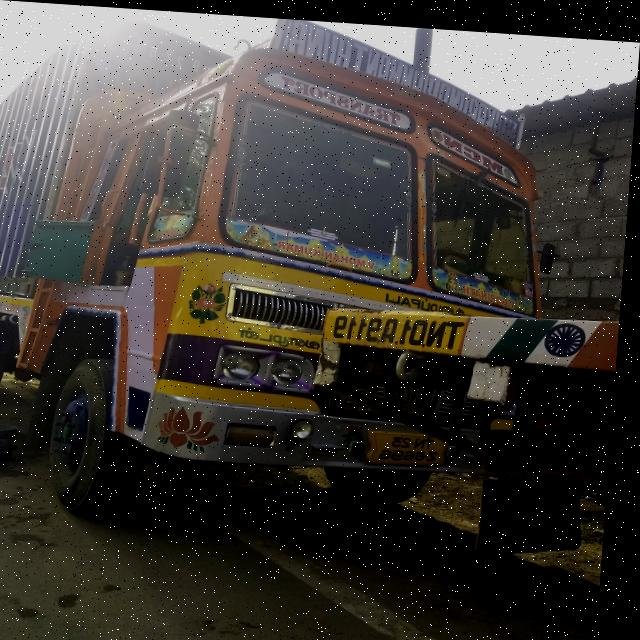plate: (328, 306, 472, 348), (377, 424, 456, 463)
